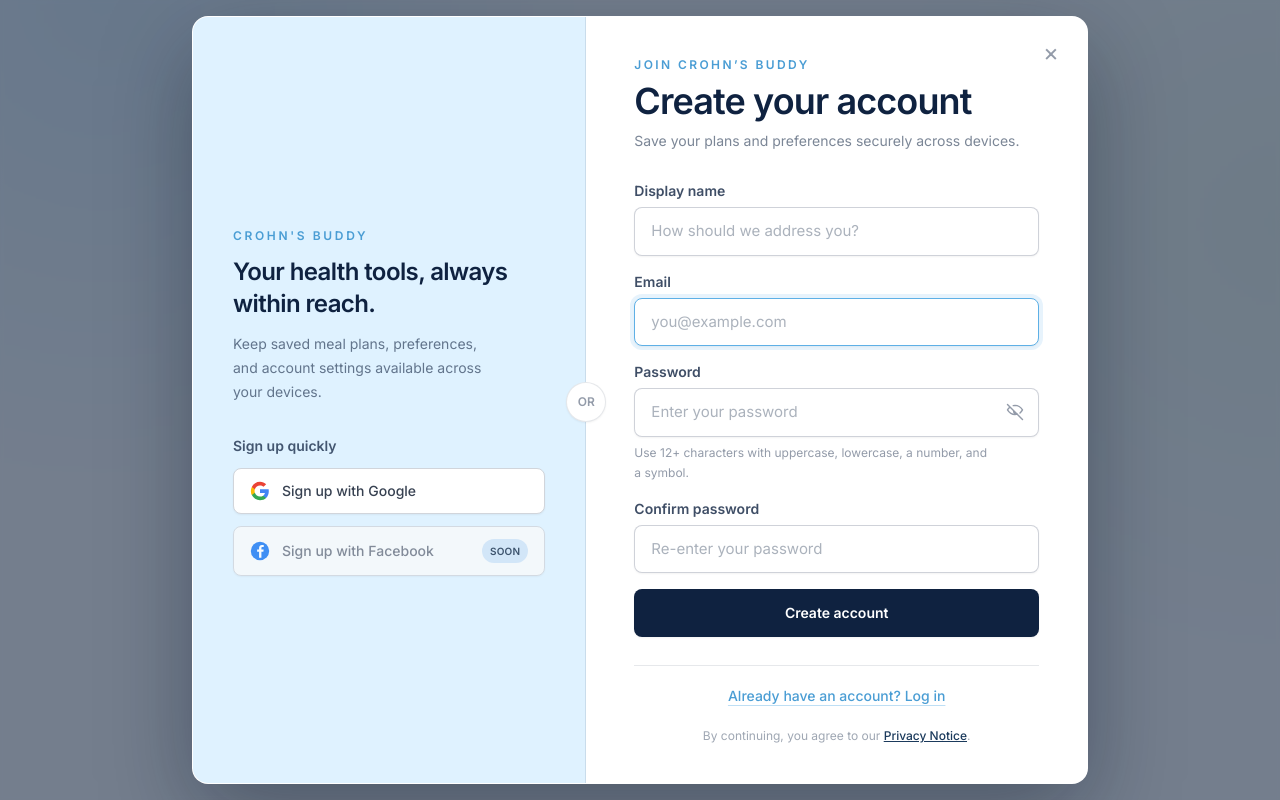
Test: account modal › does not submit mismatched signup passwords
In the field labelled "Display name": (837, 231) x1=634 y1=207 x2=1039 y2=256, type "Avery"
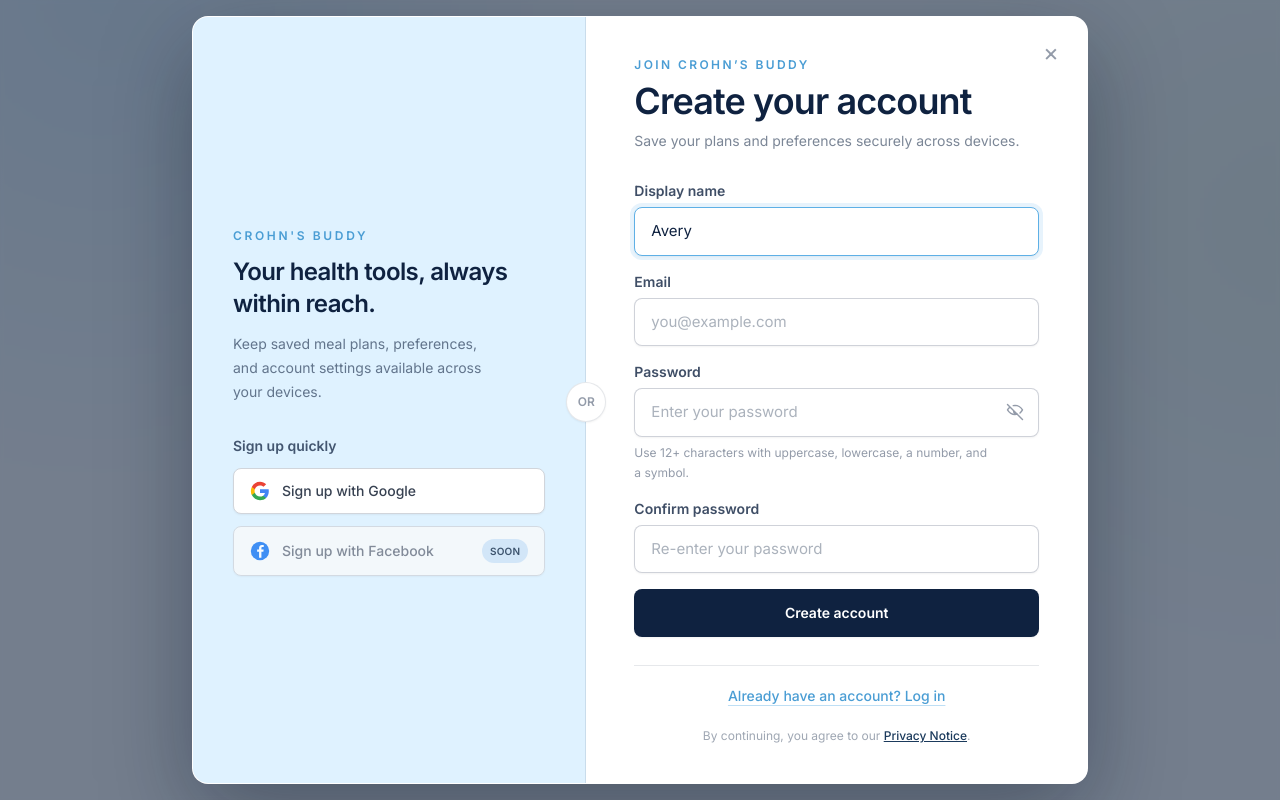
In the field labelled "Email": (837, 322) x1=634 y1=298 x2=1039 y2=346, type "avery@example.com"
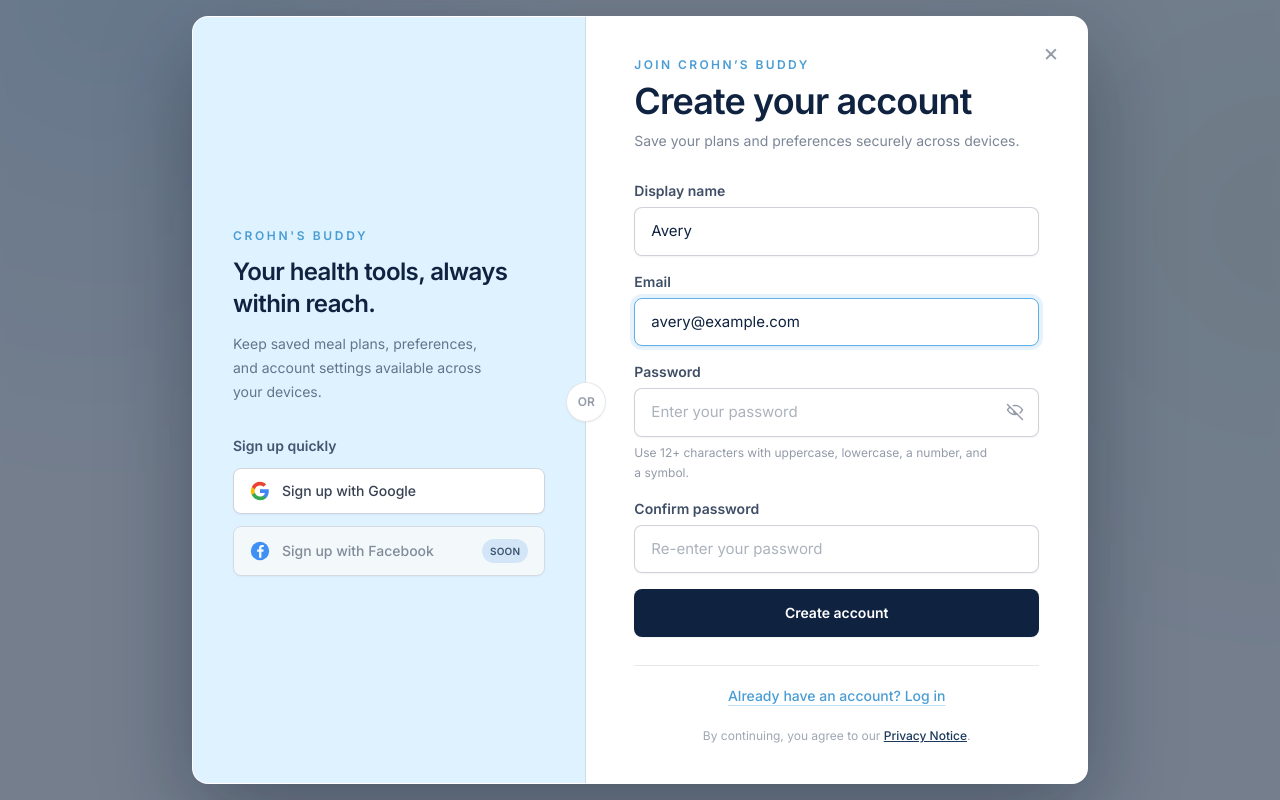
In the password field labelled "Password": (837, 412) x1=634 y1=388 x2=1039 y2=436, type "Strong!Password1"
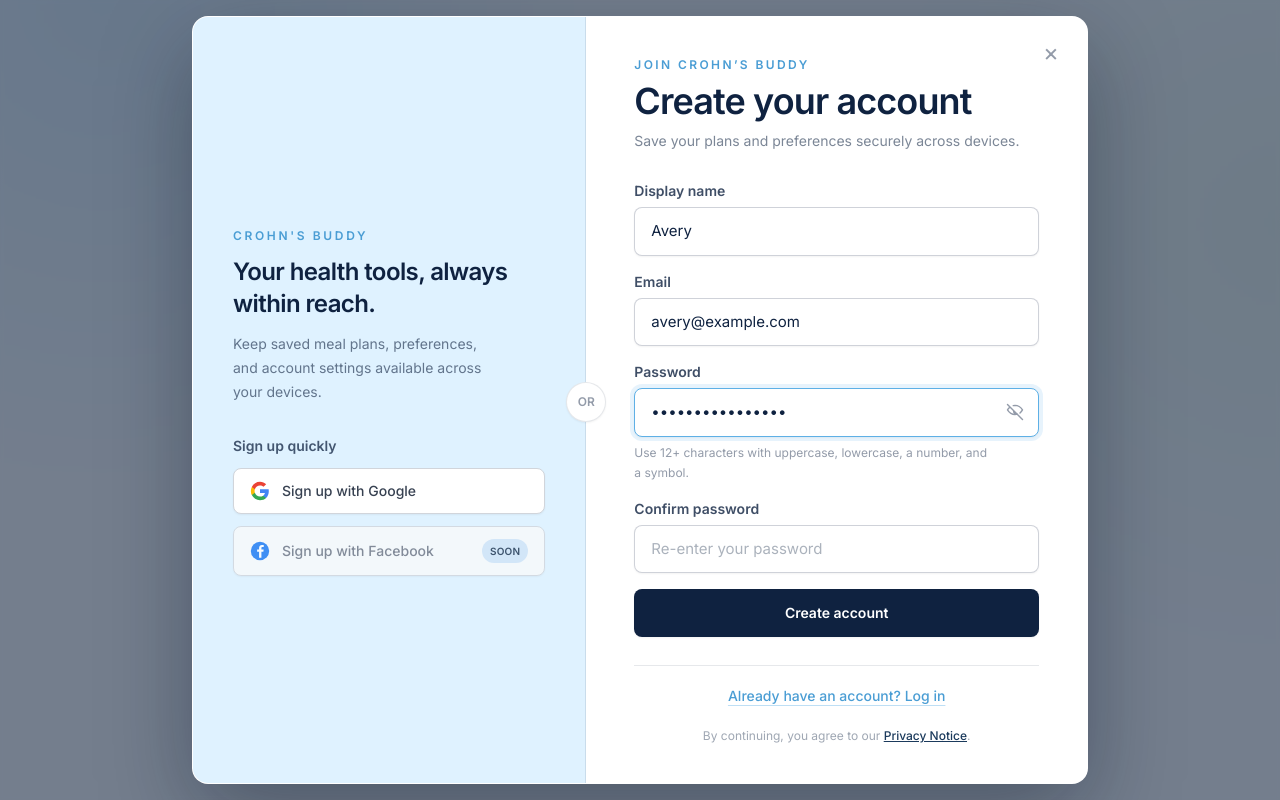
In the password field labelled "Confirm password": (837, 549) x1=634 y1=524 x2=1039 y2=573, type "Different!Password2"
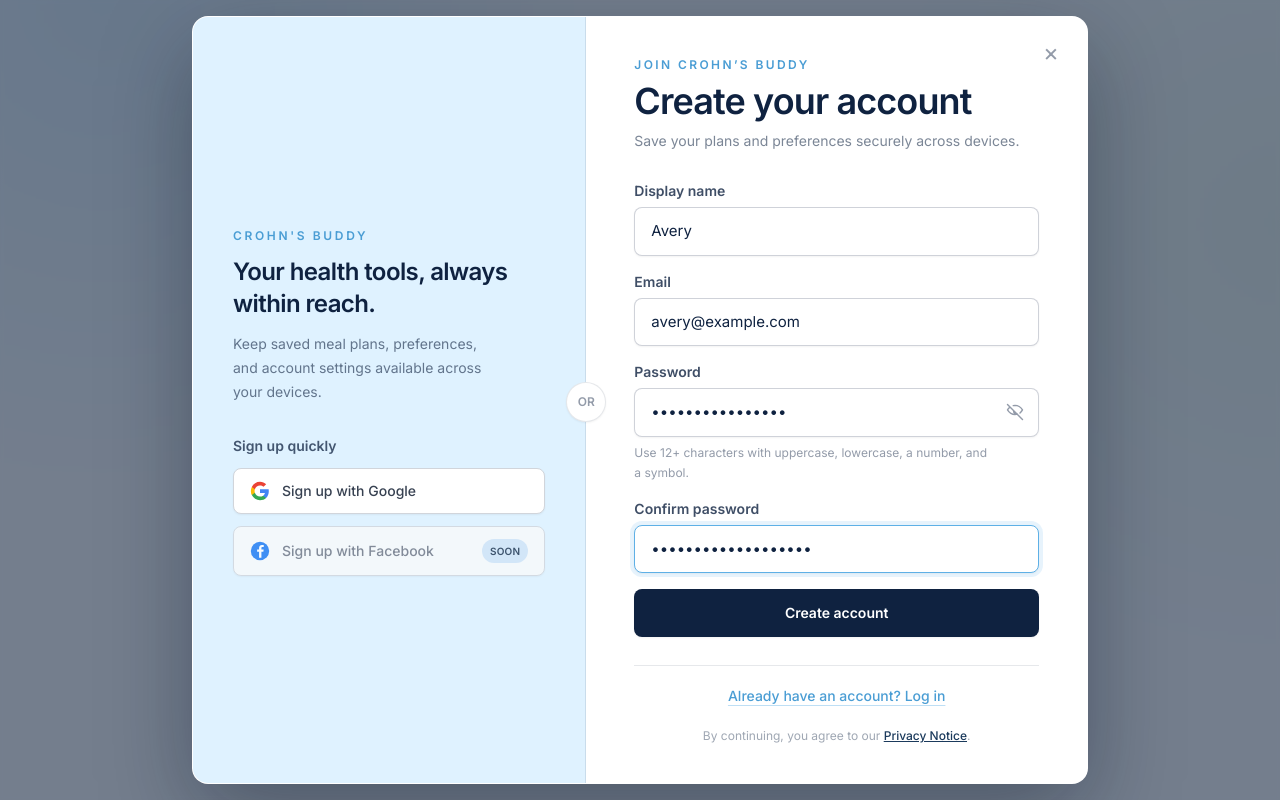
Click the button "Create account": (837, 613) x1=634 y1=589 x2=1039 y2=637
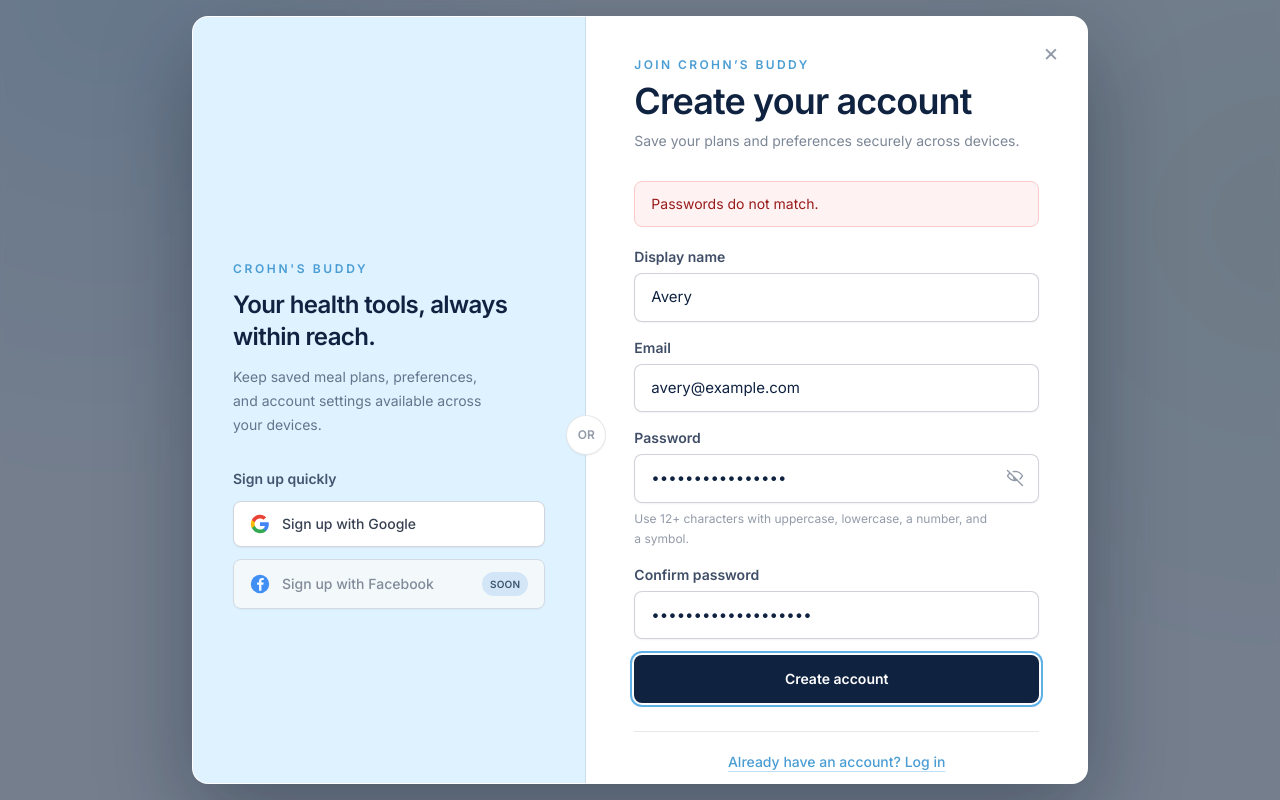
Result: the message reads "Passwords do not match." at x1=651 y1=195 x2=818 y2=212
